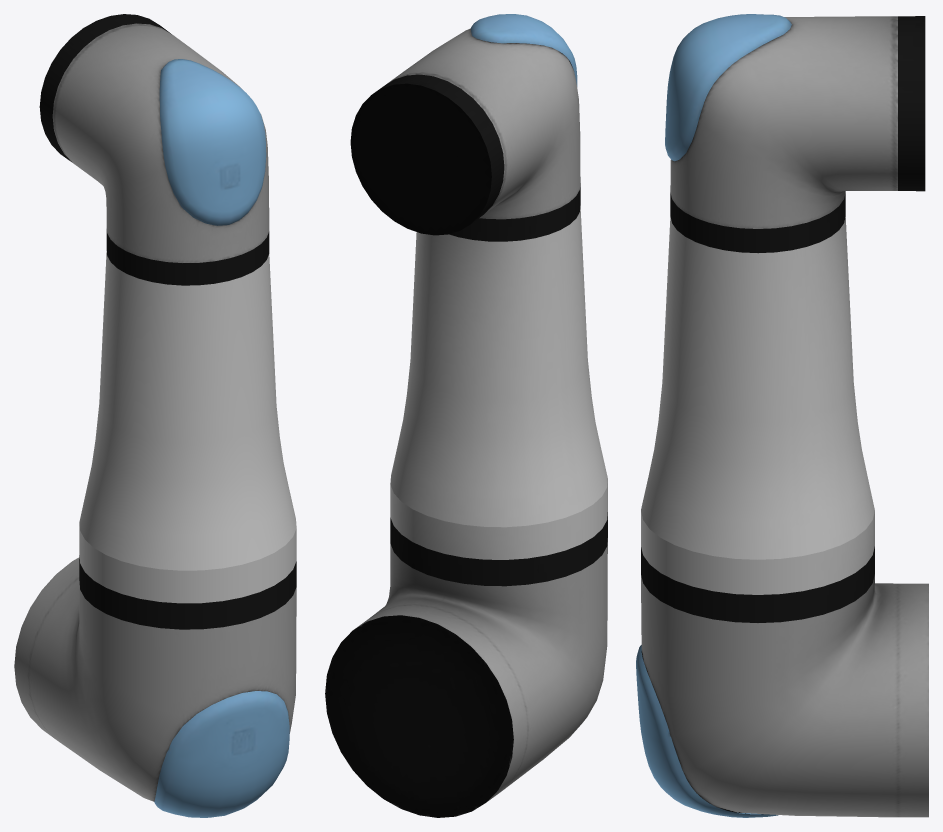
The model's file is forearm.dae.
3 renders of one model, left to right at view 1: azimuth 30°, elevation 25°; view 2: azimuth 150°, elevation 25°; view 3: azimuth 270°, elevation 25°, orthographic. The views are drawn at different scales.
Visible parts, largest first — view 1: elbow, elbow_pad.001, elbow_pad; view 2: elbow, elbow_pad.001; view 3: elbow, elbow_pad.001, elbow_pad.
Part boxes in pixels (x1=…): elbow: x1=14, y1=14, x2=296, y2=801; elbow_pad.001: x1=159, y1=59, x2=266, y2=225; elbow_pad: x1=154, y1=691, x2=289, y2=817; elbow: x1=325, y1=28, x2=607, y2=817; elbow_pad.001: x1=470, y1=14, x2=577, y2=86; elbow: x1=641, y1=16, x2=928, y2=817; elbow_pad.001: x1=665, y1=14, x2=791, y2=161; elbow_pad: x1=636, y1=645, x2=778, y2=817.
Size of the model in its own units: 0.1205 by 0.1507 by 0.4486.
Materials: 4 (4 with a texture image).
